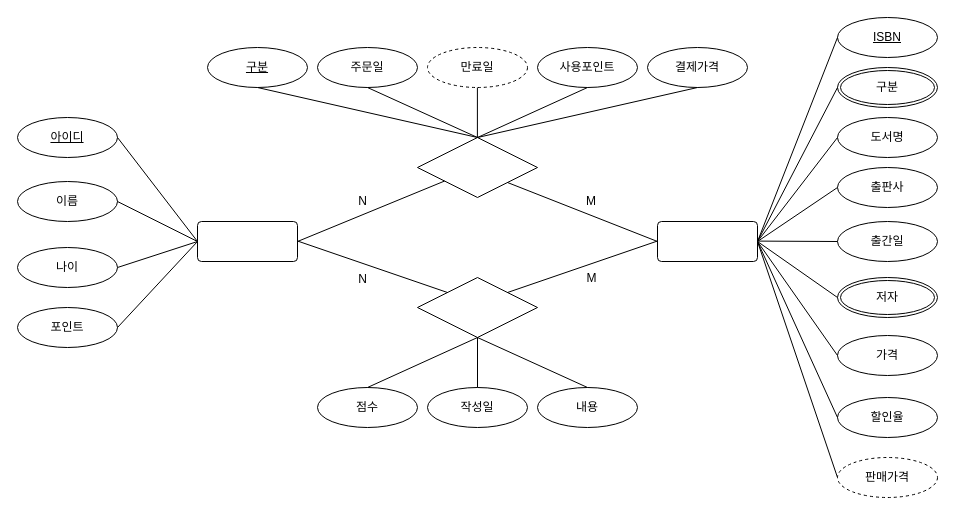
This 955x515 diagram has some shape labels left out. Here are the shapes that lost their labels. From the top down, the centre of each, then its label:
the point at 477,167: 주문
the point at 247,241: 고객
the point at 707,241: 도서
the point at 477,307: 리뷰
